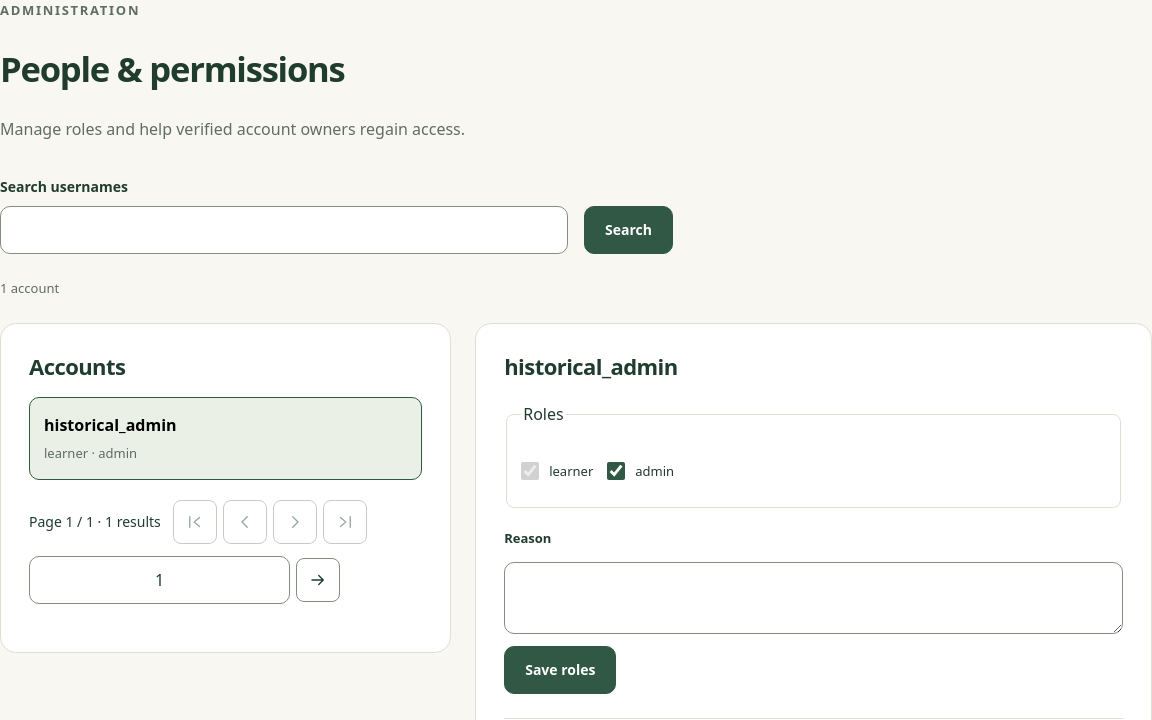
it: TestAdminUsers › shows only current roles in an account with historical roles and submits only explicit current choices
Expected: the button "Save roles" is shown, [504, 646, 616, 694]
Expected: the text "learner · admin" is shown, [44, 444, 137, 462]
Type "Explicit current role confirmation" into the text box labelled "Reason" at (814,598), box [504, 562, 1123, 634]
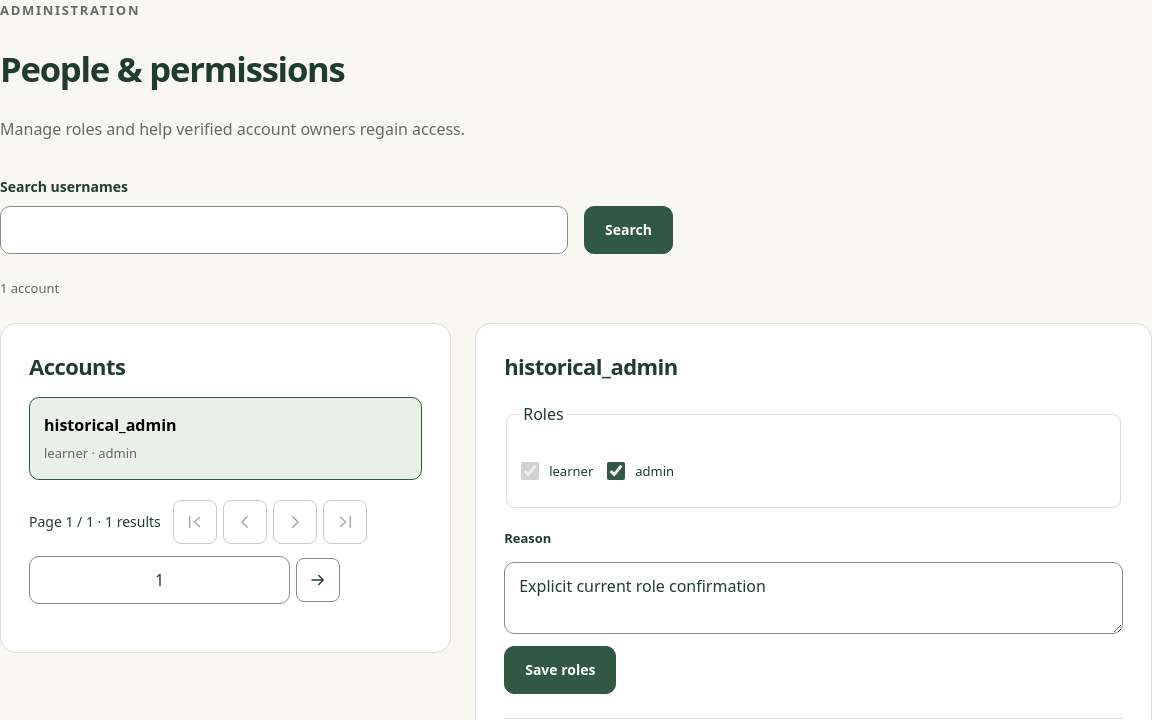
Click the button "Save roles" at (560,670), box [504, 646, 616, 694]
(page scrolled)
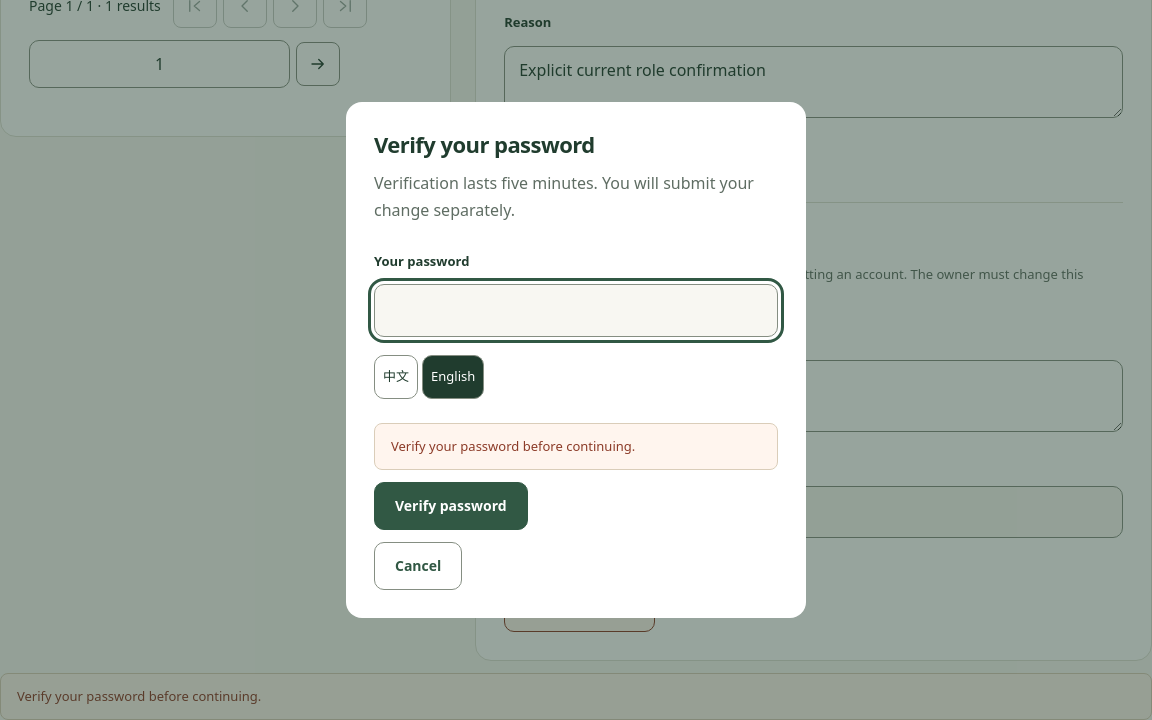
Expected: the dialog is shown, [346, 102, 806, 618]
